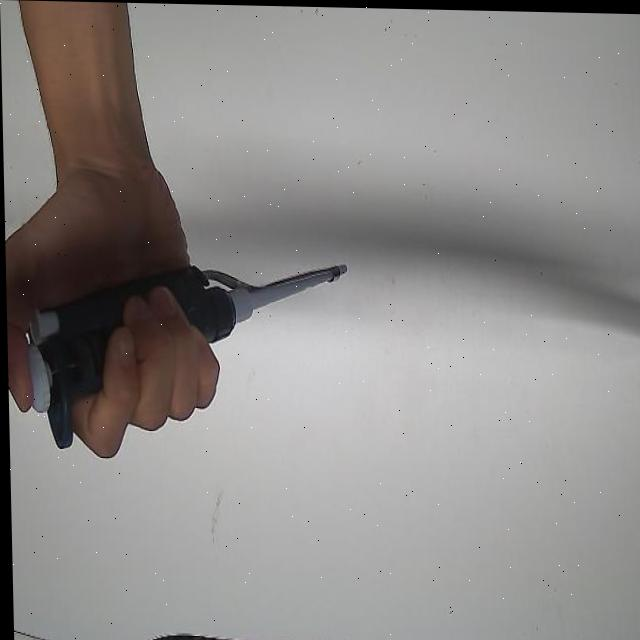Single Channel Pipettor: (23, 253, 352, 457)
